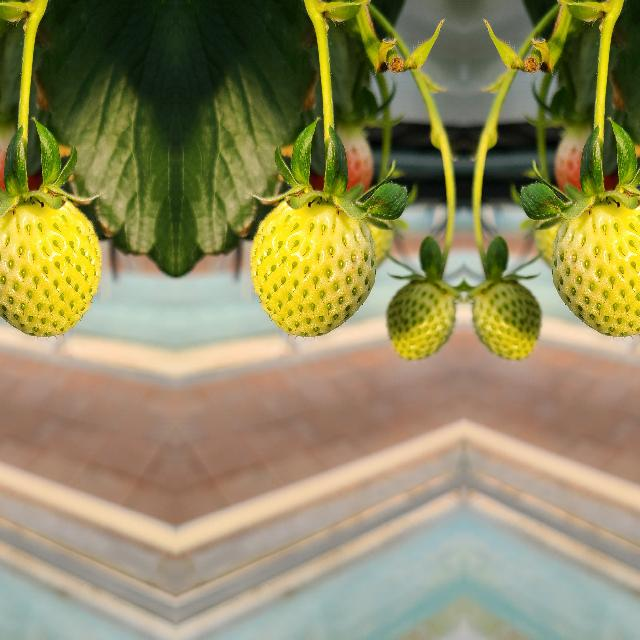Health_25: (250, 200, 374, 336), (0, 200, 100, 336), (551, 200, 640, 336), (381, 275, 457, 363), (469, 275, 545, 363)
